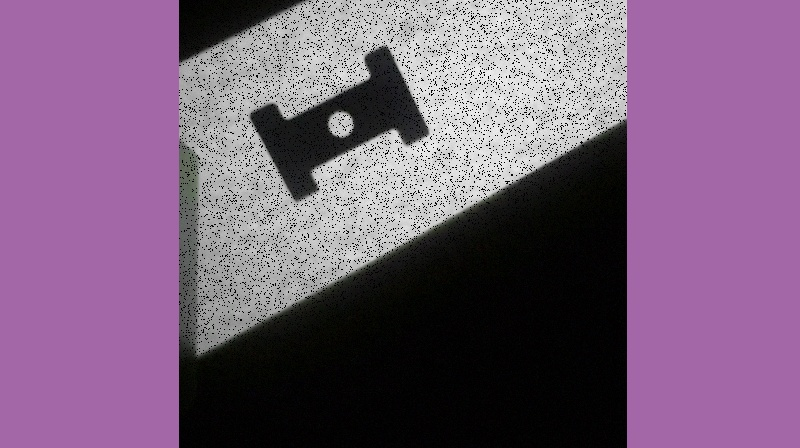O002: (245, 42, 432, 205)
